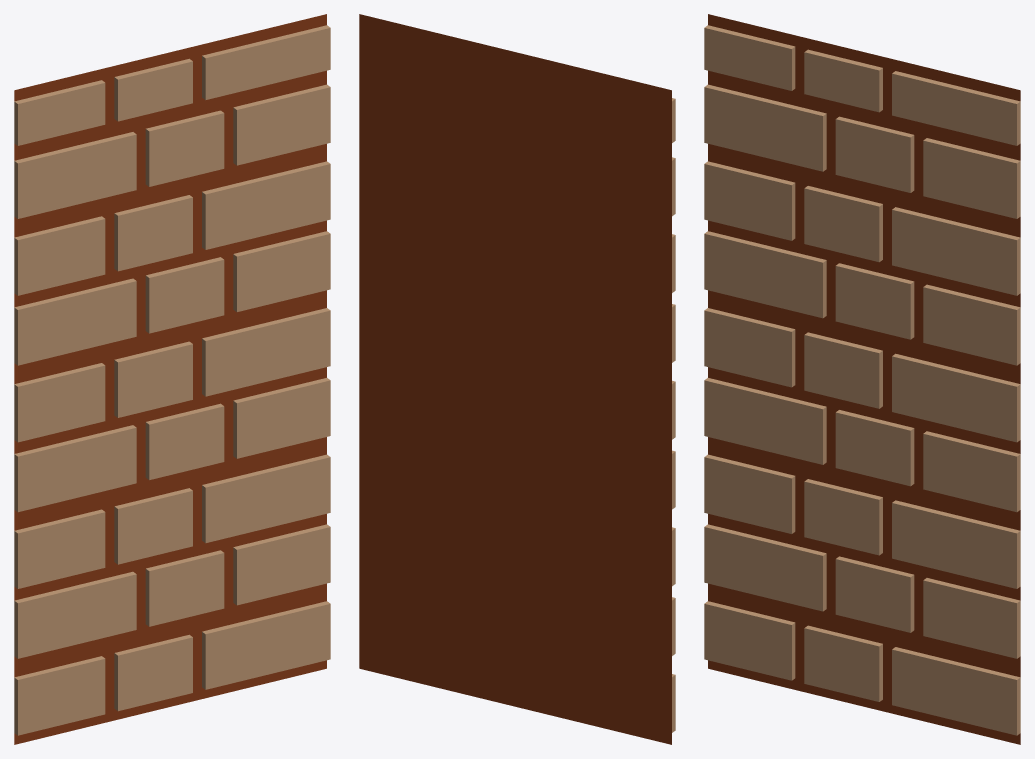
File: Ext-BrickV1Small.fbx
3 views of the same model, side by side, from view 1: azimuth 30°, elevation 25°; view 2: azimuth 150°, elevation 25°; view 3: azimuth 330°, elevation 25° (orthographic).
Parts seen in each view (by area): view 1: Ext-BrickV1Small; view 2: Ext-BrickV1Small; view 3: Ext-BrickV1Small.
Boxes of the visible parts, left/top/right/bottom form: Ext-BrickV1Small: left=14, top=14, right=330, bottom=744; Ext-BrickV1Small: left=359, top=14, right=675, bottom=744; Ext-BrickV1Small: left=704, top=14, right=1020, bottom=744.
Bounding box in the file's own units: 100 × 200 × 2.
